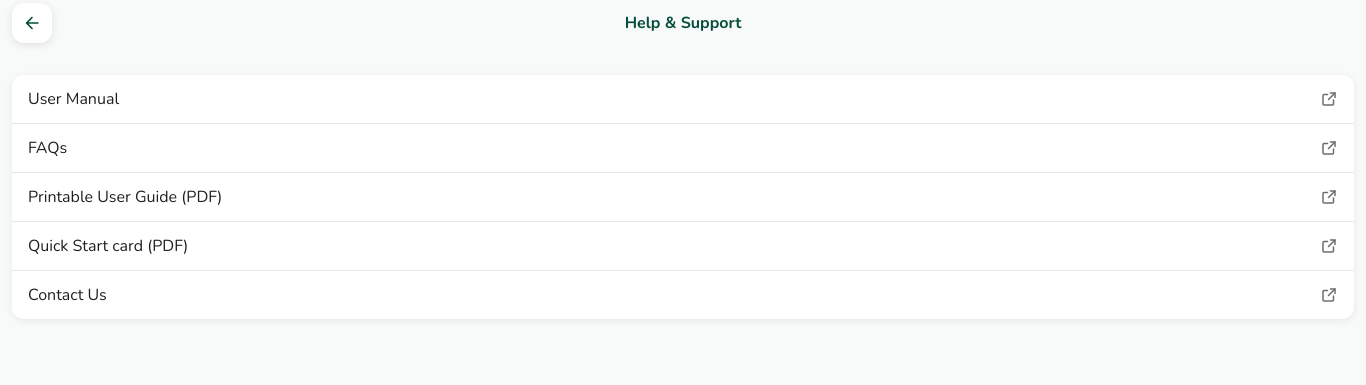
Test case: Help & Support page › printable guide (N16) › a 503 closes the tab and shows the Help home message, not raw JSON
The image size is (1366, 385).
Click the button "Printable User Guide (PDF)".
click(125, 197)  # box [12,173,1354,221]
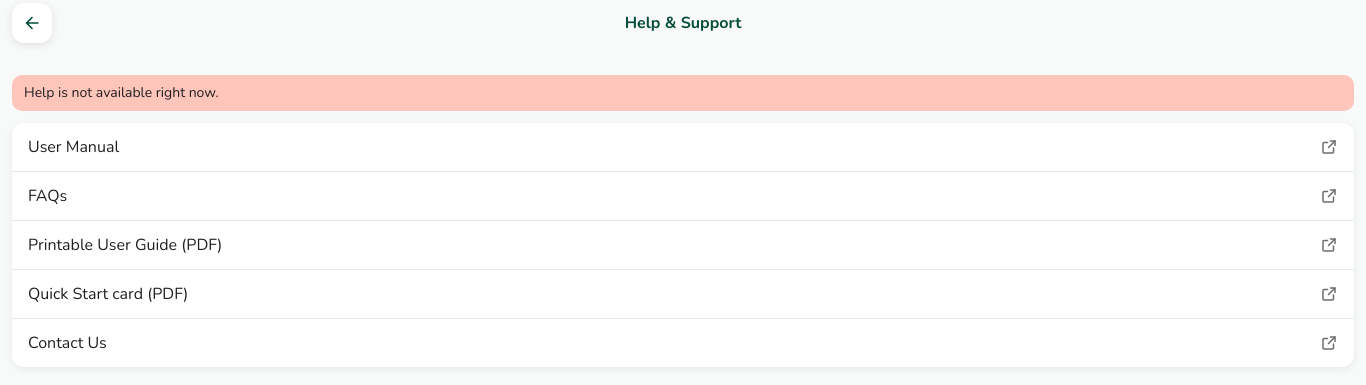
Result: the message reads "Help is not available right now." at [24,83,219,102]
